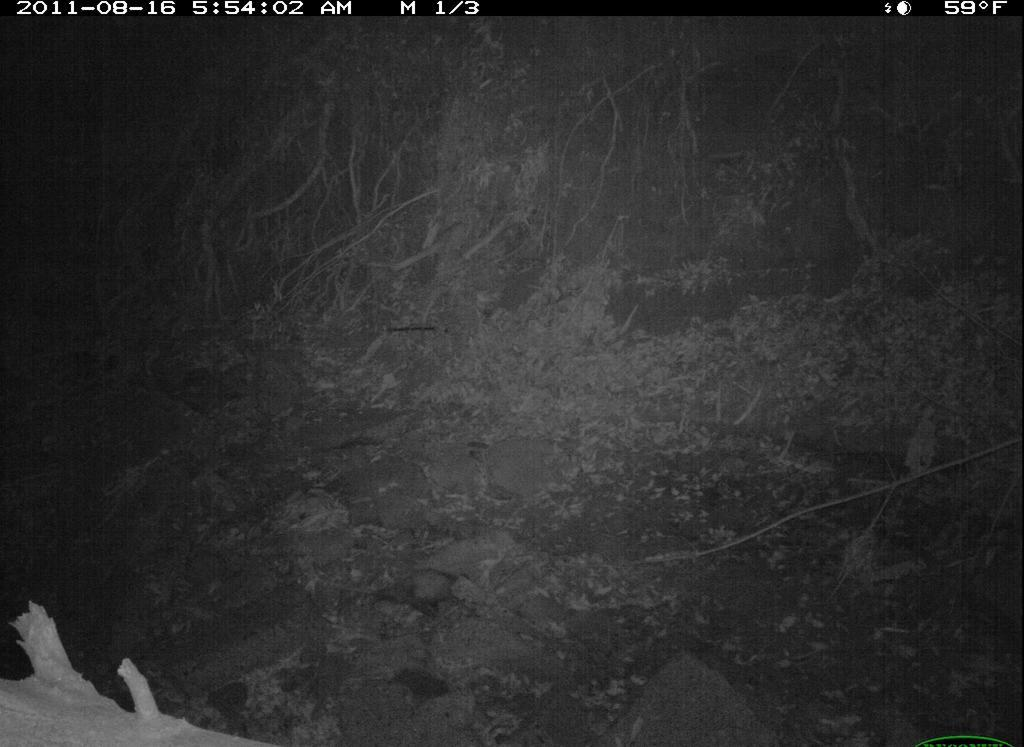opossum: (321, 564, 477, 622)
